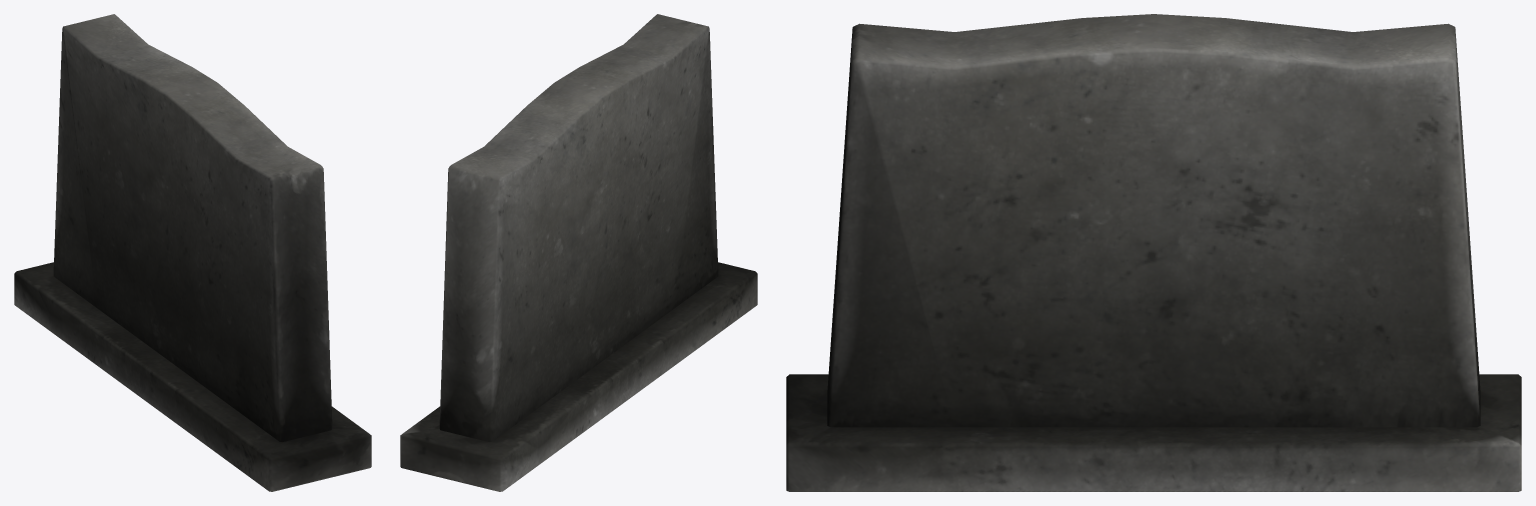
Rendered from gravestone_medium1.obj.
3 views of the same model, side by side, from view 1: azimuth 30°, elevation 25°; view 2: azimuth 150°, elevation 25°; view 3: azimuth 270°, elevation 25° (orthographic). The views are drawn at different scales.
Parts seen in each view (by area): view 1: Gravestone_Medium01; view 2: Gravestone_Medium01; view 3: Gravestone_Medium01.
Boxes of the visible parts, x1,y1,x2,y2 form: Gravestone_Medium01: (14,14,371,491); Gravestone_Medium01: (400,14,757,491); Gravestone_Medium01: (786,14,1521,491).
Bounding box in the file's own units: 2.12 × 5.87 × 9.21.
Materials: 1 (1 with a texture image).
